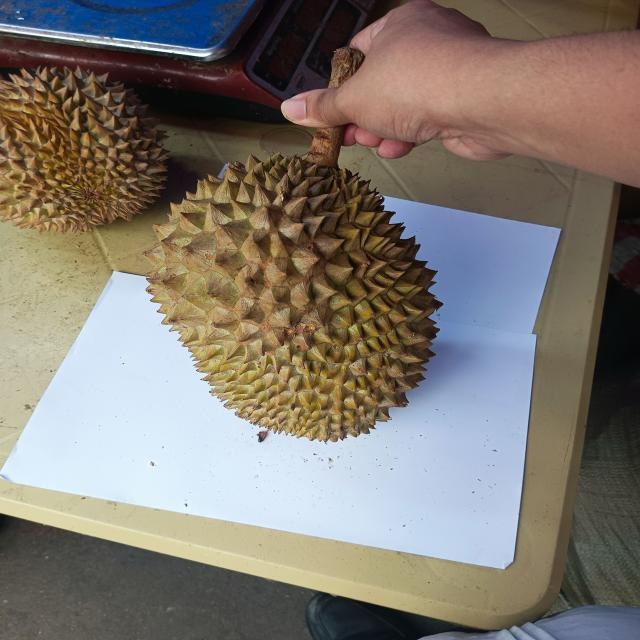mature: (142, 148, 440, 442), (1, 61, 173, 232)
